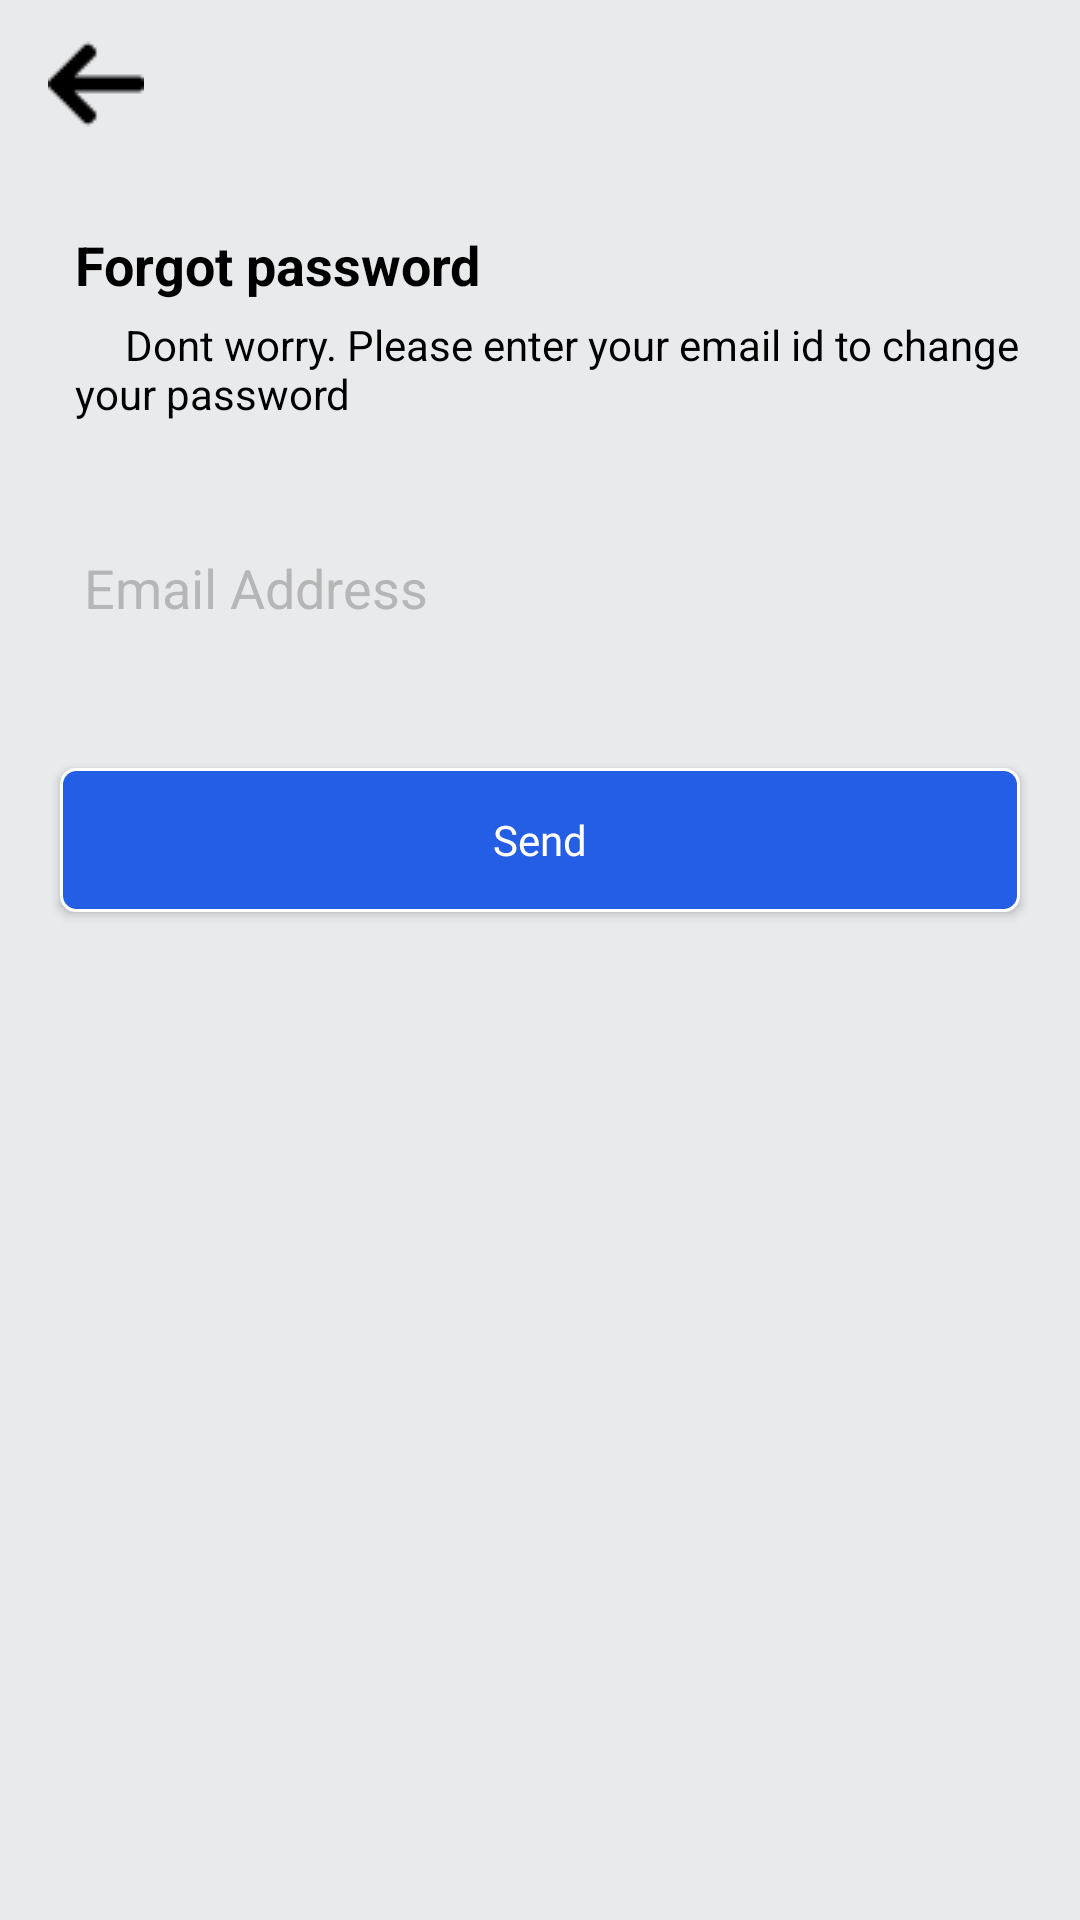

Point at icon controls on the screen. Image size 1080px x 1920px, points as point (x, y).
back arrow: point (96, 84)
